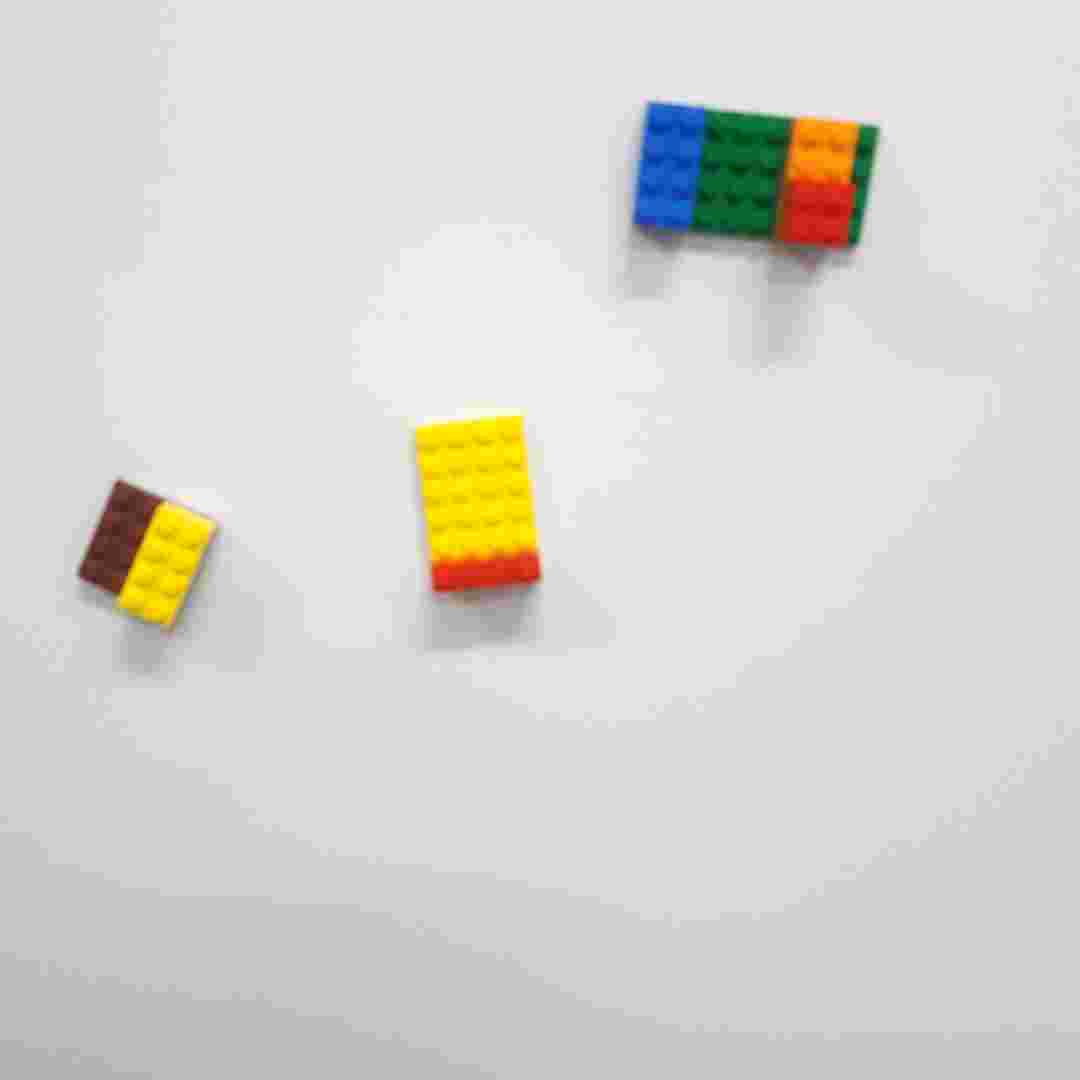LEGO: (627, 101, 886, 256), (411, 412, 553, 601), (74, 480, 221, 626)
